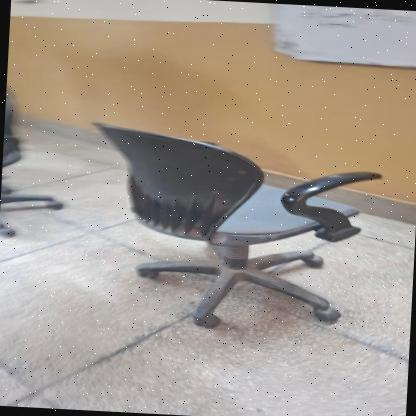chair: (74, 107, 394, 344)
